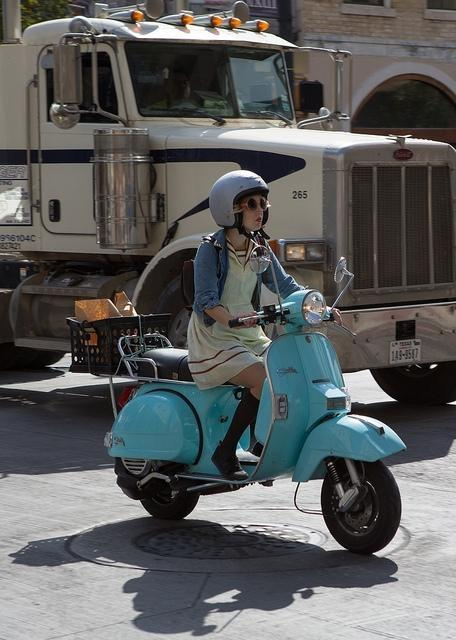motorcycle: (107, 255, 406, 553)
truck: (1, 1, 456, 403)
